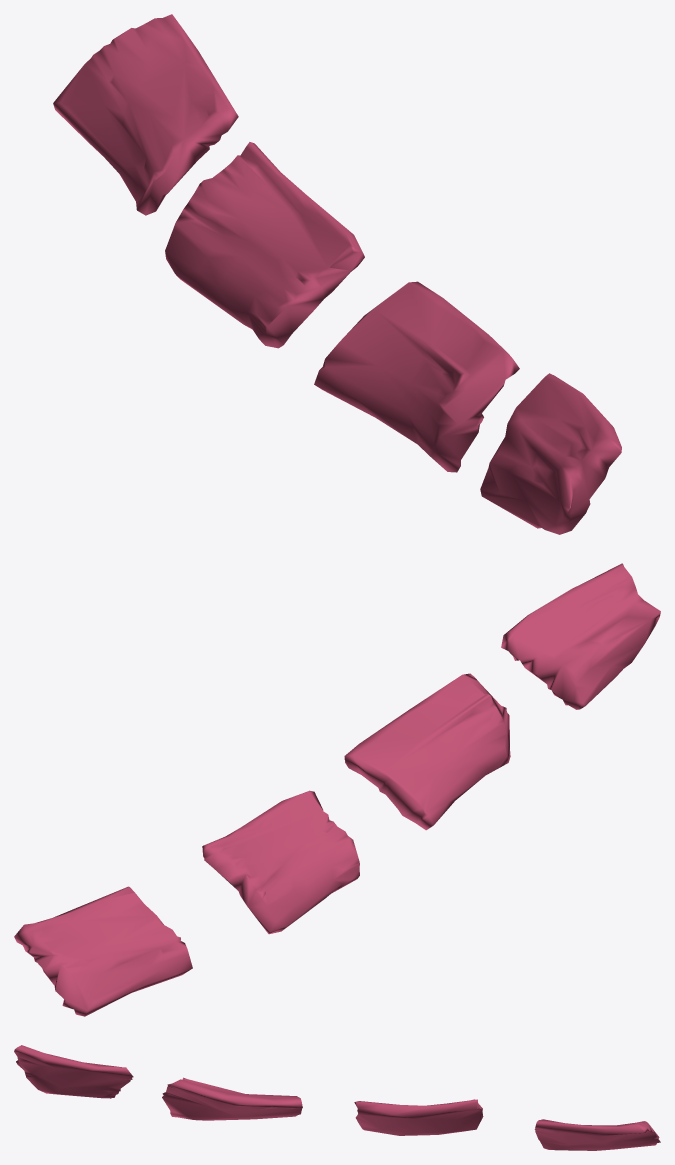
3 views of the same model, one above another, from view 1: azimuth 30°, elevation 25°; view 2: azimuth 150°, elevation 25°; view 3: azimuth 270°, elevation 25° (orthographic). The views are drawn at different scales.
Visible parts, largest first — view 1: 左侧腰外侧横突间肌腹侧部; view 2: 左侧腰外侧横突间肌腹侧部; view 3: 左侧腰外侧横突间肌腹侧部.
Part boxes in pixels (x1=…): 左侧腰外侧横突间肌腹侧部: x1=53, y1=14, x2=621, y2=534; 左侧腰外侧横突间肌腹侧部: x1=14, y1=563, x2=660, y2=1016; 左侧腰外侧横突间肌腹侧部: x1=14, y1=1045, x2=660, y2=1150.
Bounding box in the file's own units: 0.0355 × 0.0258 × 0.1717.
